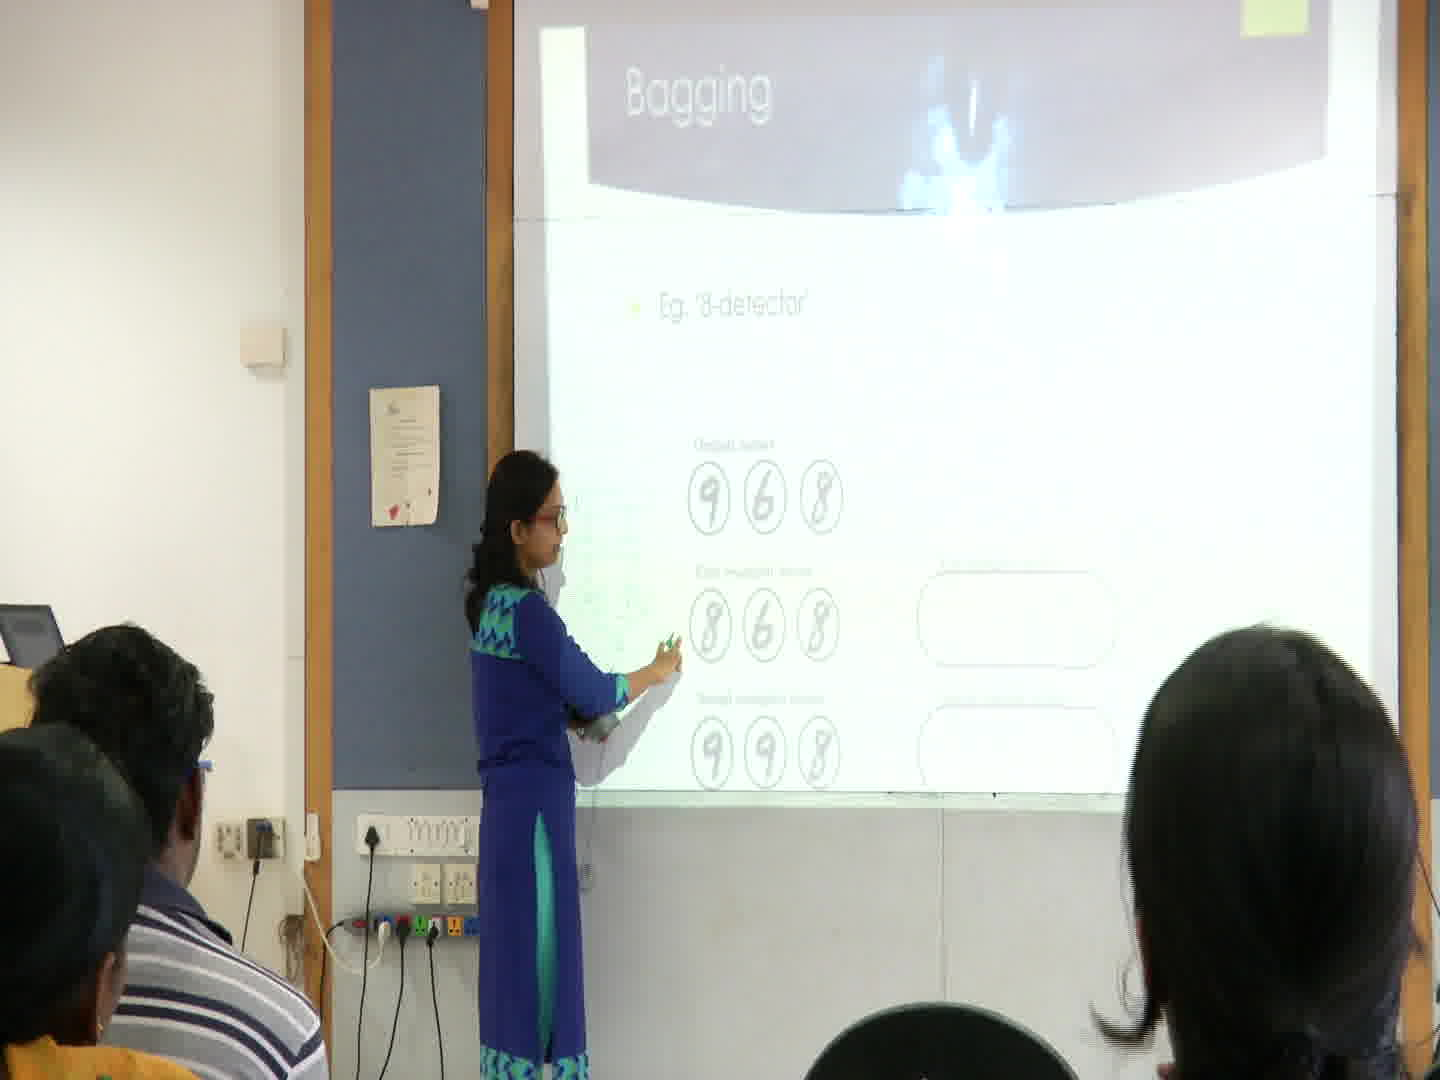fig: (688, 456, 842, 794), (908, 694, 1126, 805)
